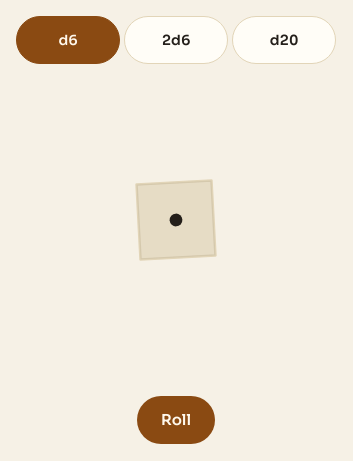
Test case: DiceScreen › reserves the sum slot in every mode, so the Roll button never moves
The width and height of the screenshot is (353, 461).
Step 1. Click the radio button labelled "2d6" → click(176, 40), box [124, 16, 228, 64]
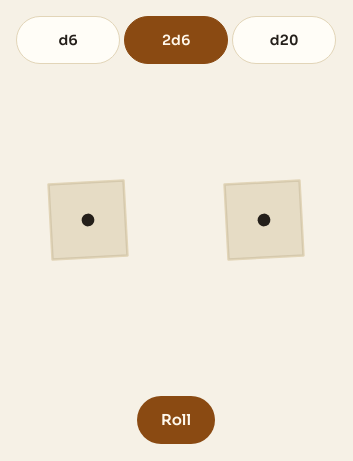
Step 2. Click the button "Roll" → click(176, 420), box [137, 396, 215, 444]
Wait 900 ms
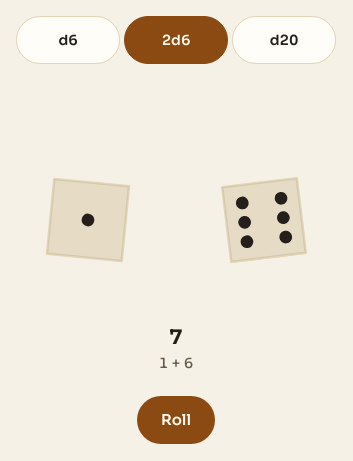
Expected: the element with test id "sum-slot" shows "1 + 6", [159, 320, 193, 376]
